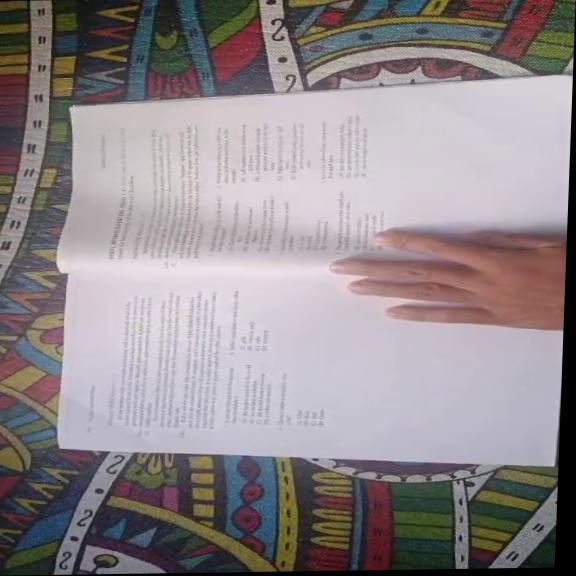Kertas: (59, 76, 572, 271), (51, 79, 572, 271), (59, 270, 561, 464)
